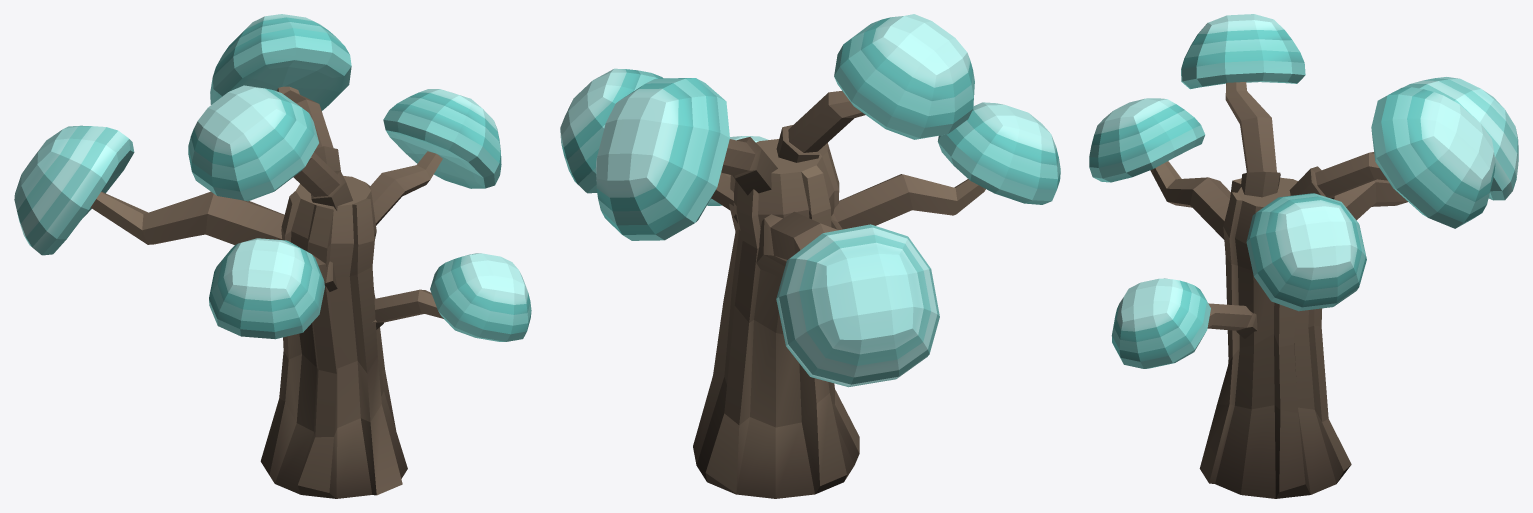
The model's file is Tree_Small_E.fbx.
3 views of the same model, side by side, from view 1: azimuth 30°, elevation 25°; view 2: azimuth 150°, elevation 25°; view 3: azimuth 270°, elevation 25° (orthographic). The views are drawn at different scales.
Parts seen in each view (by area): view 1: Tree_Small_E; view 2: Tree_Small_E; view 3: Tree_Small_E.
Boxes of the visible parts, x1=… form: Tree_Small_E: x1=14, y1=14, x2=531, y2=498; Tree_Small_E: x1=560, y1=14, x2=1060, y2=498; Tree_Small_E: x1=1089, y1=14, x2=1518, y2=498.
Bounding box in the file's own units: 168 × 166 × 160.
